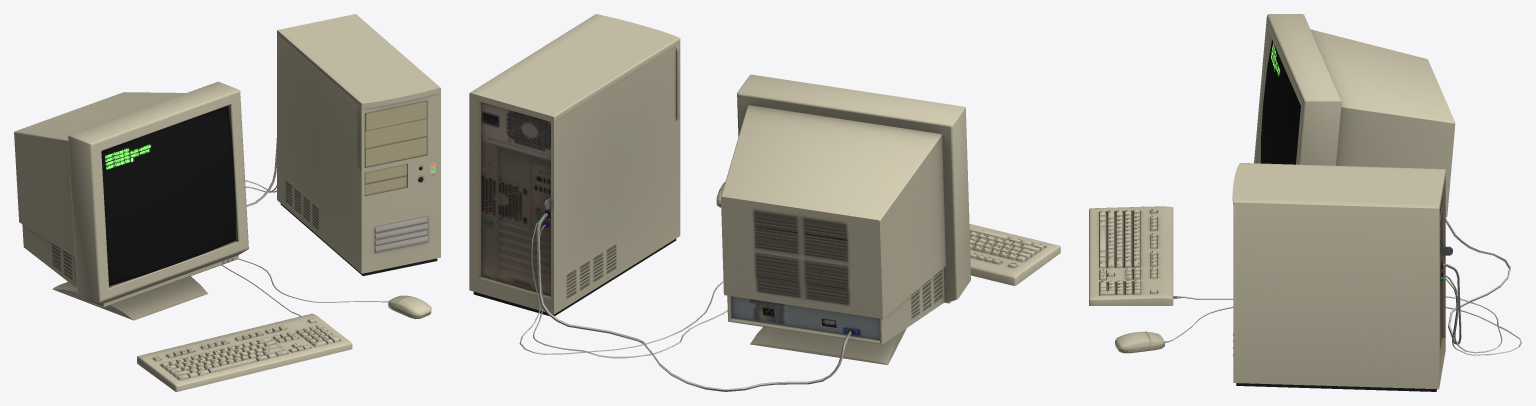
Rendered from computer-transformed.glb.
3 views of the same model, side by side, from view 1: azimuth 30°, elevation 25°; view 2: azimuth 150°, elevation 25°; view 3: azimuth 270°, elevation 25° (orthographic). The views are drawn at different scales.
Visible parts, largest first — view 1: retro_computer_setup; view 2: retro_computer_setup; view 3: retro_computer_setup.
Boxes of the visible parts, <box> form: retro_computer_setup: <box>14,14,440,391</box>; retro_computer_setup: <box>469,14,1060,391</box>; retro_computer_setup: <box>1089,14,1521,391</box>.
Size of the model in its own units: 96.8 by 49.3 by 96.94.
1 material, 1 textured.
